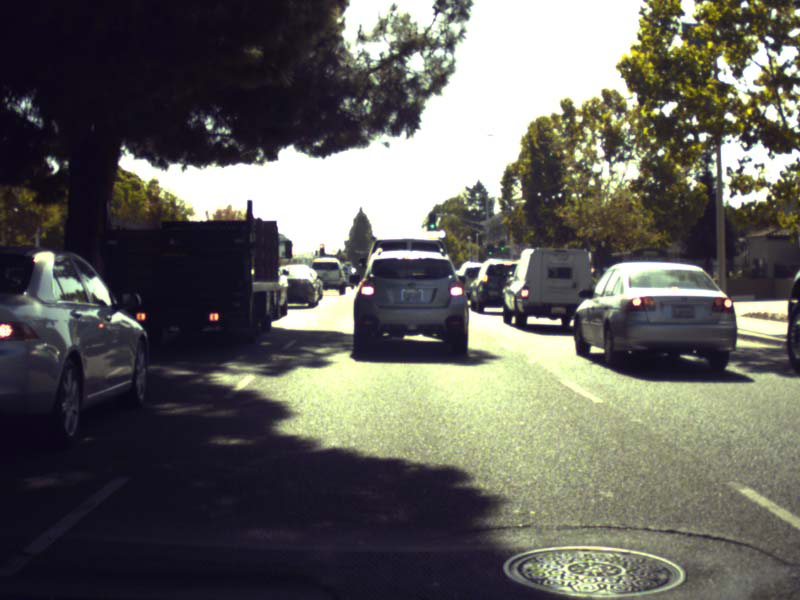Green: (429, 214, 434, 229), (487, 244, 491, 254), (500, 241, 503, 251)
Red: (320, 244, 323, 255)
